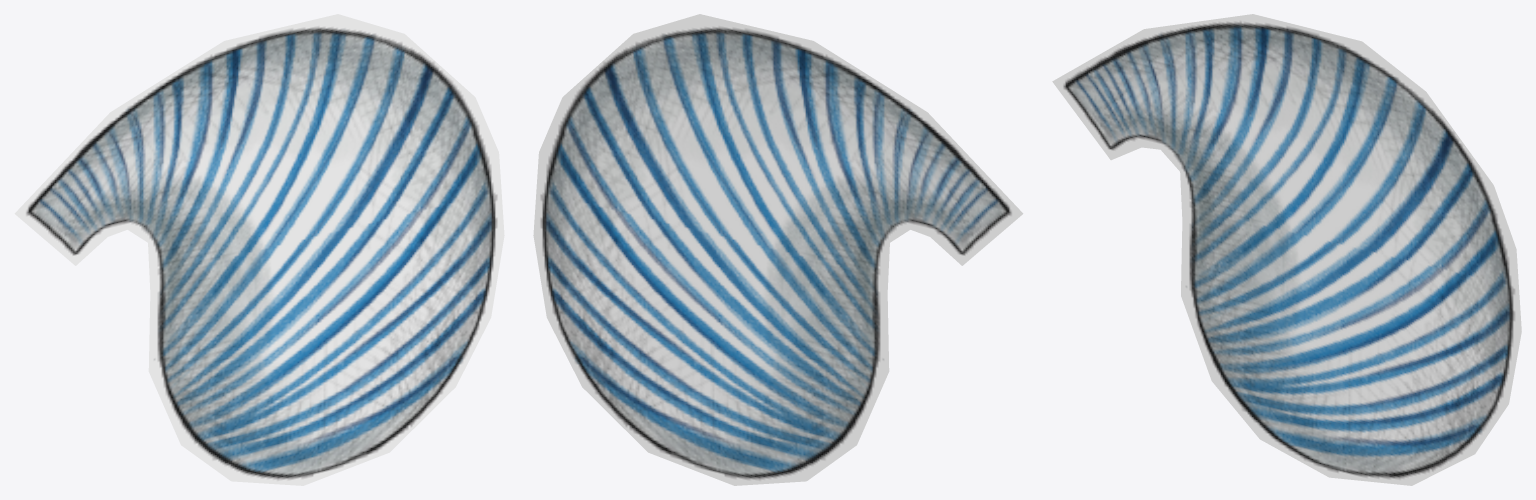
3 views of the same model, side by side, from view 1: azimuth 30°, elevation 25°; view 2: azimuth 150°, elevation 25°; view 3: azimuth 330°, elevation 25° (orthographic). The views are drawn at different scales.
Visible parts, largest first — view 1: Plane; view 2: Plane; view 3: Plane.
Part boxes in pixels (x1=…): Plane: x1=14, y1=14, x2=504, y2=485; Plane: x1=533, y1=14, x2=1023, y2=485; Plane: x1=1052, y1=14, x2=1521, y2=485.
Size of the model in its own units: 3.63 by 3.29 by 0.
Materials: 1 (1 with a texture image).
